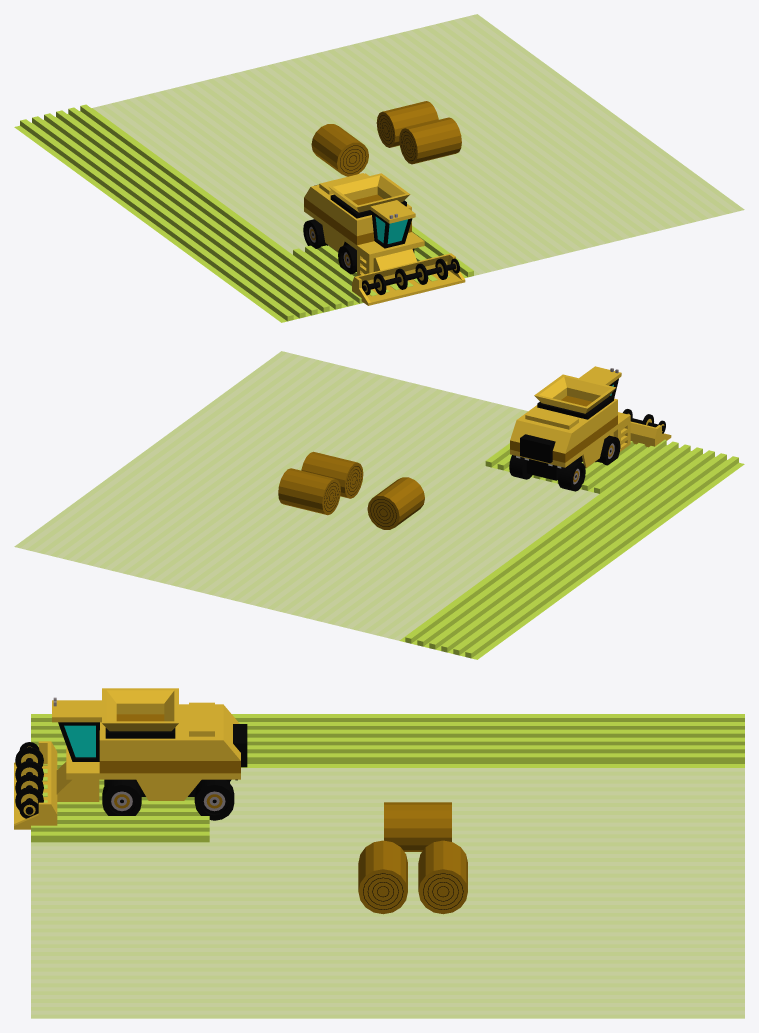
Rendered from cosecha.glb.
3 renders of one model, top to bottom at view 1: azimuth 30°, elevation 25°; view 2: azimuth 150°, elevation 25°; view 3: azimuth 270°, elevation 25°, orthographic. The views are drawn at different scales.
Parts seen in each view (by area): view 1: Plane001, Cylinder006, Cylinder008, Cylinder010, Cylinder009; view 2: Plane001, Cylinder006, Cylinder009, Cylinder010, Cylinder008; view 3: Plane001, Cylinder006, Cylinder008, Cylinder009, Cylinder010.
Part boxes in pixels (x1,y1,x2,y2): Plane001: (14, 14, 744, 322); Cylinder006: (303, 173, 465, 305); Cylinder008: (399, 117, 461, 164); Cylinder010: (311, 124, 368, 176); Cylinder009: (376, 101, 438, 147); Plane001: (14, 351, 744, 659); Cylinder006: (509, 366, 671, 491); Cylinder009: (278, 468, 340, 515); Cylinder010: (367, 477, 424, 529); Cylinder008: (301, 451, 363, 498); Plane001: (31, 714, 744, 1018); Cylinder006: (14, 688, 247, 829); Cylinder008: (358, 840, 407, 914); Cylinder009: (418, 840, 467, 914); Cylinder010: (384, 802, 451, 851).
Size of the model in its own units: 5.54 by 0.9046 by 5.67.
